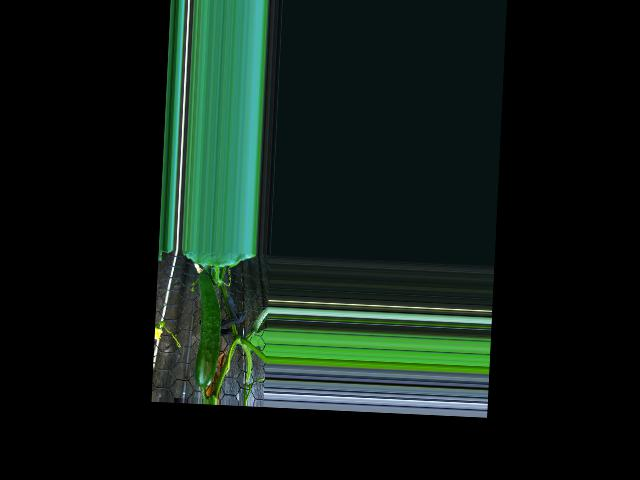cucumber: (193, 273, 224, 388)
